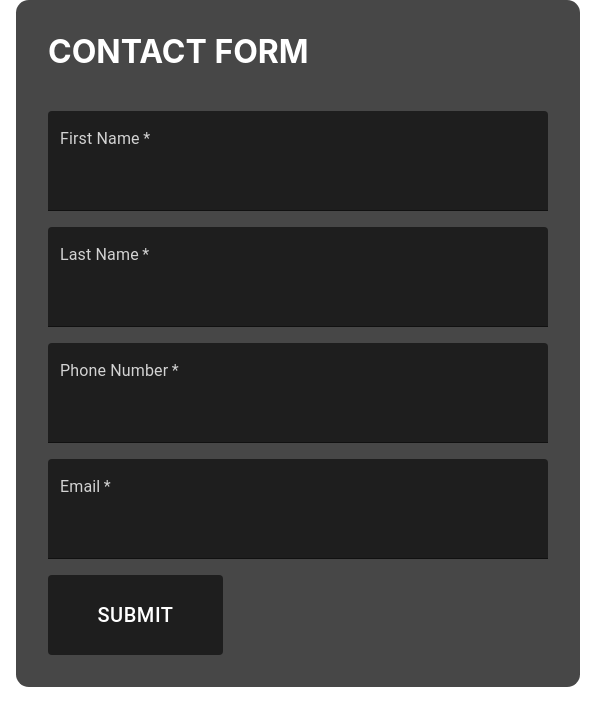
Test: Form › displays an error for invalid phone number
The image size is (597, 704).
Type "abc" into the field named "Phone Number" at (298, 161), box [48, 122, 548, 200]
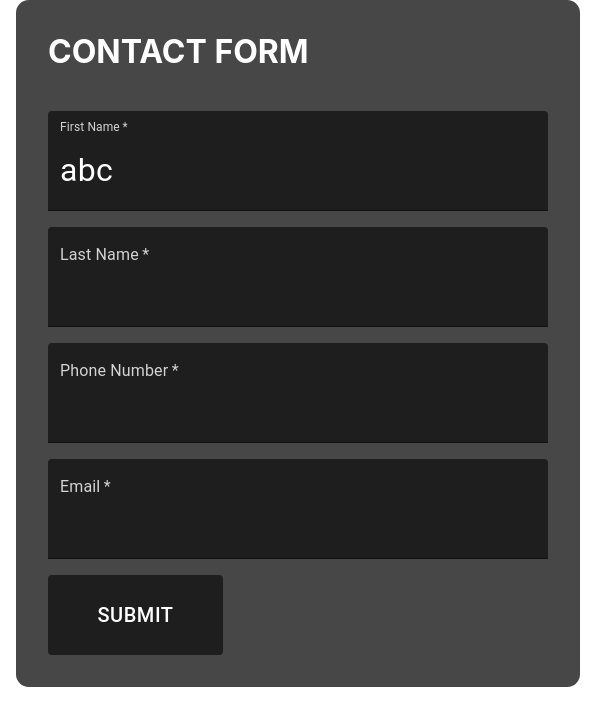
Submit the form from the button "Submit", box [48, 575, 223, 655]
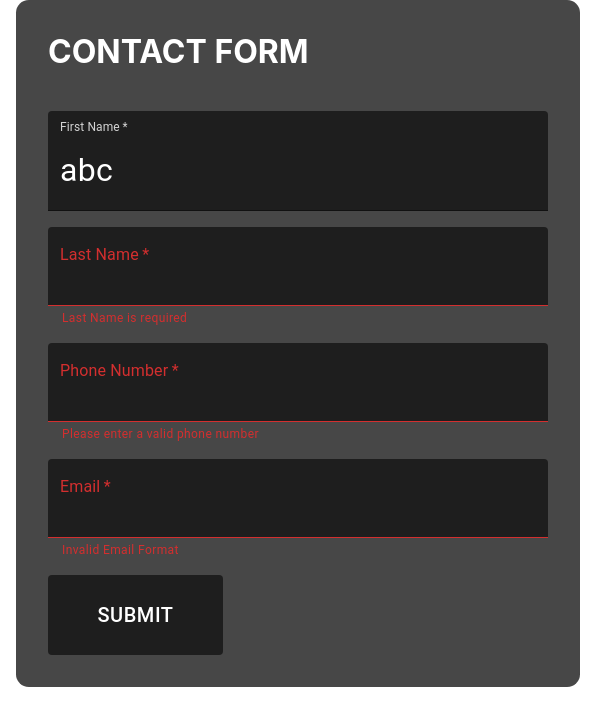
Expected: the text "Please enter a valid phone number" is shown, [62, 427, 259, 441]
